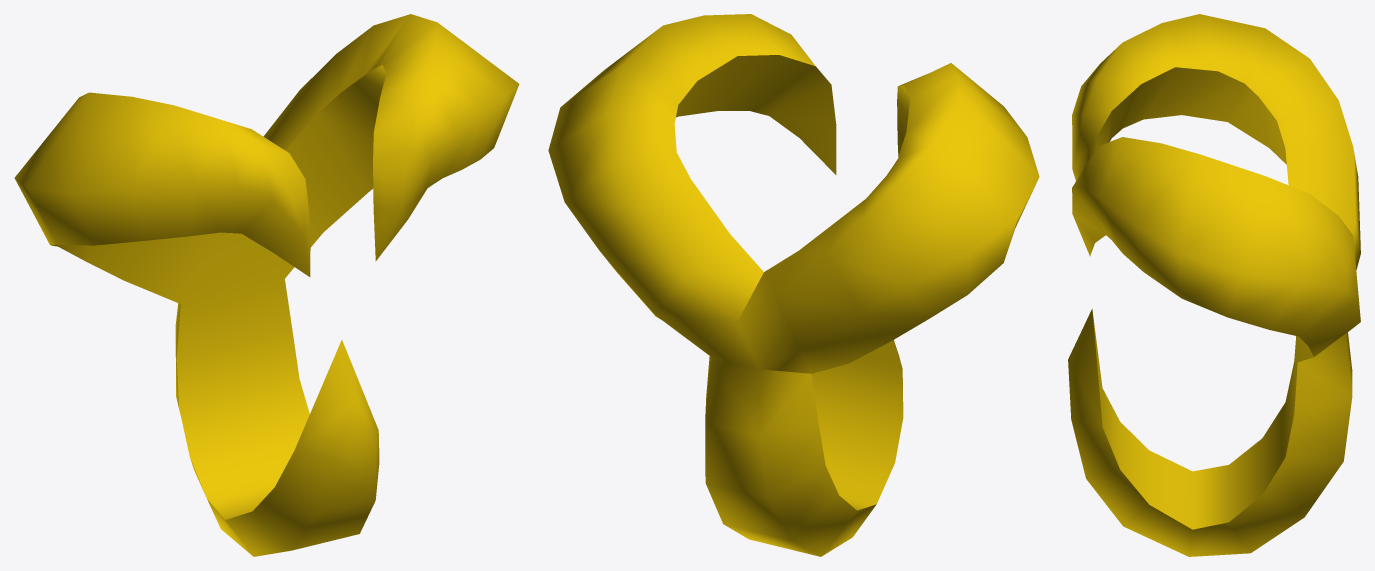
Rendered from Pentagon_Gold_2.fbx.
The picture shows the model from 3 angles, left to right: view 1: azimuth 30°, elevation 25°; view 2: azimuth 150°, elevation 25°; view 3: azimuth 270°, elevation 25°; orthographic projection. The views are drawn at different scales.
Visible parts, largest first — view 1: Pentagon_Gold_2; view 2: Pentagon_Gold_2; view 3: Pentagon_Gold_2.
Boxes of the visible parts, box(x1,y1,x2,y2) form: Pentagon_Gold_2: box(14, 14, 519, 556); Pentagon_Gold_2: box(548, 14, 1039, 556); Pentagon_Gold_2: box(1068, 14, 1360, 556).
Size of the model in its own units: 28.07 by 27.69 by 16.09.
